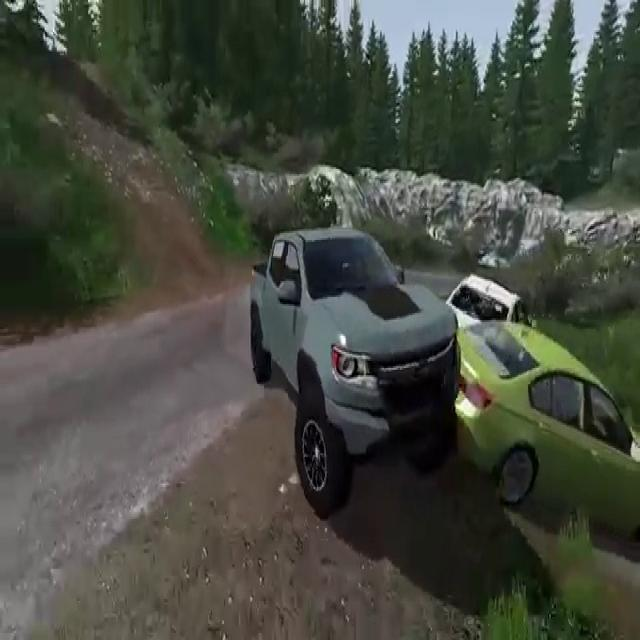moderate: (243, 210, 640, 553)
